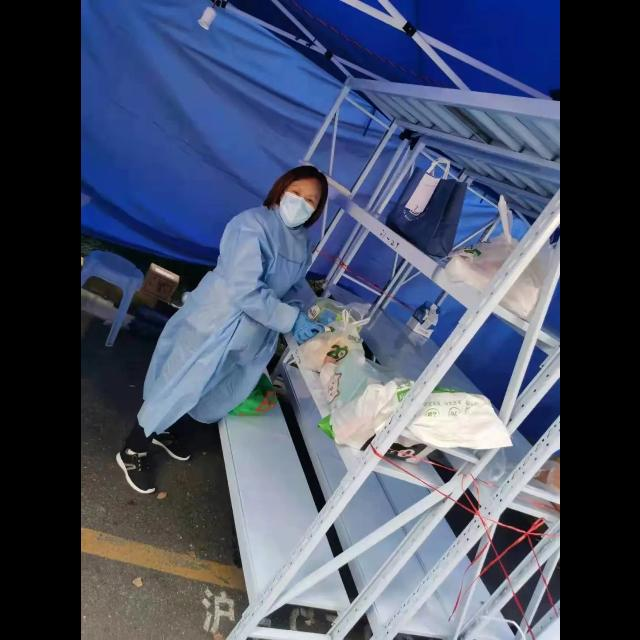masks: (282, 190, 312, 226)
